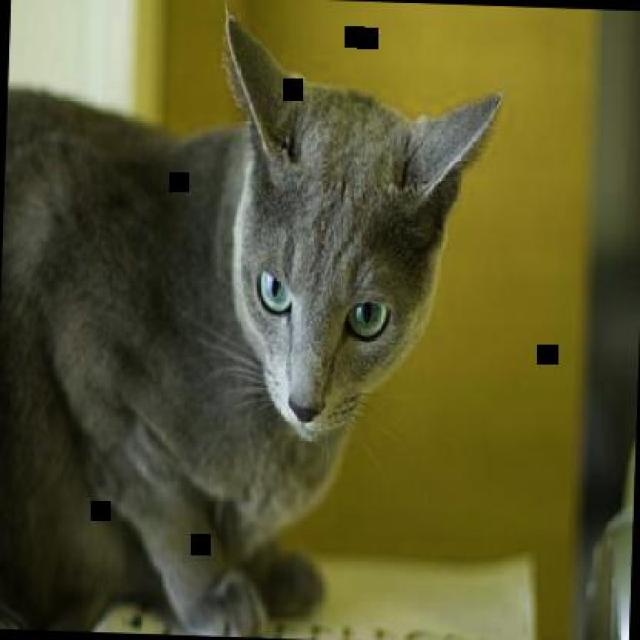cat: (0, 6, 511, 639)
